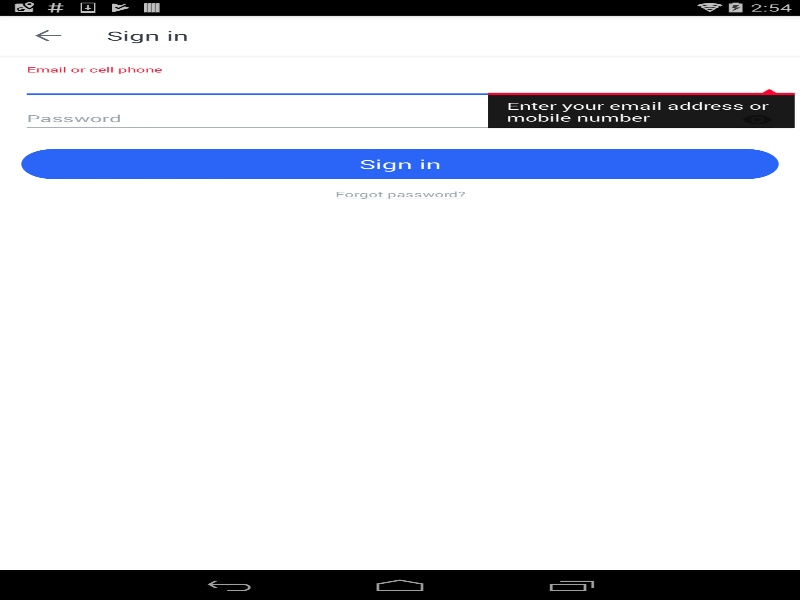Button: (21, 149, 778, 179), (10, 15, 85, 55), (736, 105, 778, 134)
Input: (21, 72, 778, 99), (21, 105, 778, 132)
